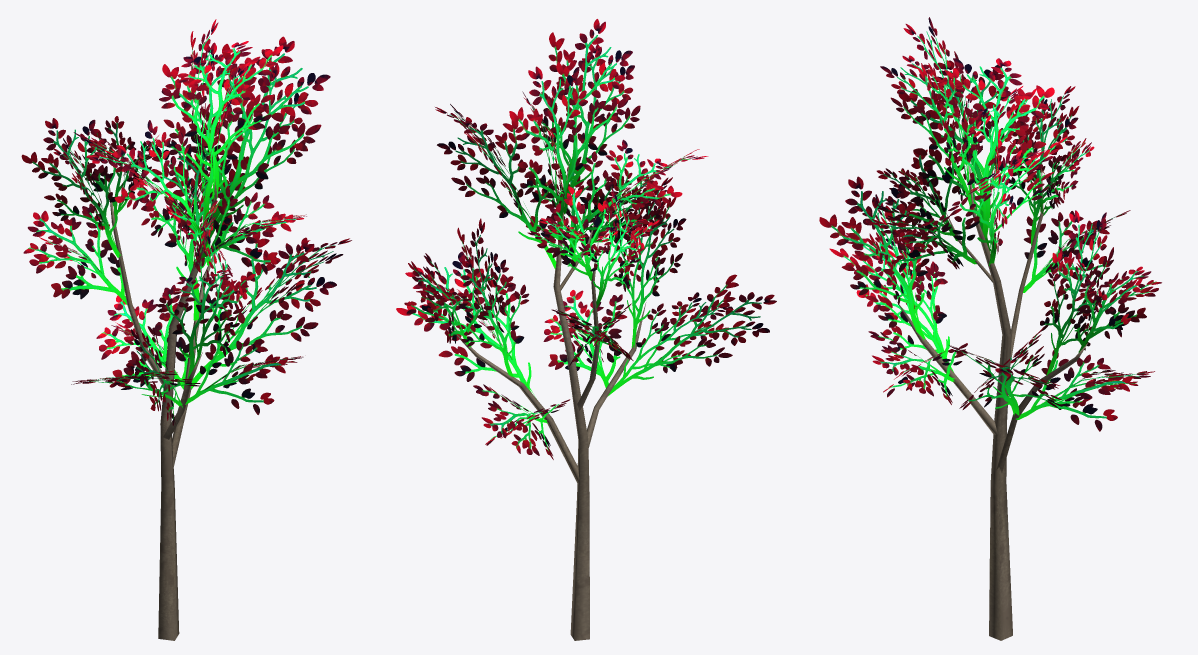
Rendered from SM_Tree_Small_01.fbx.
The picture shows the model from 3 angles, left to right: view 1: azimuth 30°, elevation 25°; view 2: azimuth 150°, elevation 25°; view 3: azimuth 270°, elevation 25°; orthographic projection. The views are drawn at different scales.
Parts seen in each view (by area): view 1: SM_Tree_Small_01_LOD0; view 2: SM_Tree_Small_01_LOD0; view 3: SM_Tree_Small_01_LOD0.
Part boxes in pixels (x1,y1,x2,y2): SM_Tree_Small_01_LOD0: [21, 19, 351, 640]; SM_Tree_Small_01_LOD0: [396, 19, 776, 640]; SM_Tree_Small_01_LOD0: [819, 17, 1161, 640].
Bounding box in the file's own units: 170 × 296 × 160.
